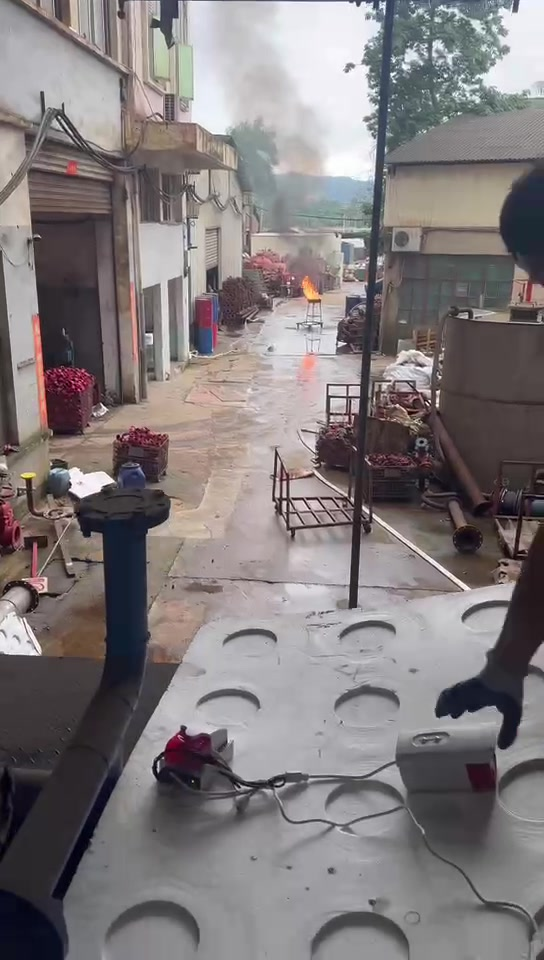fire: (300, 275, 322, 299)
